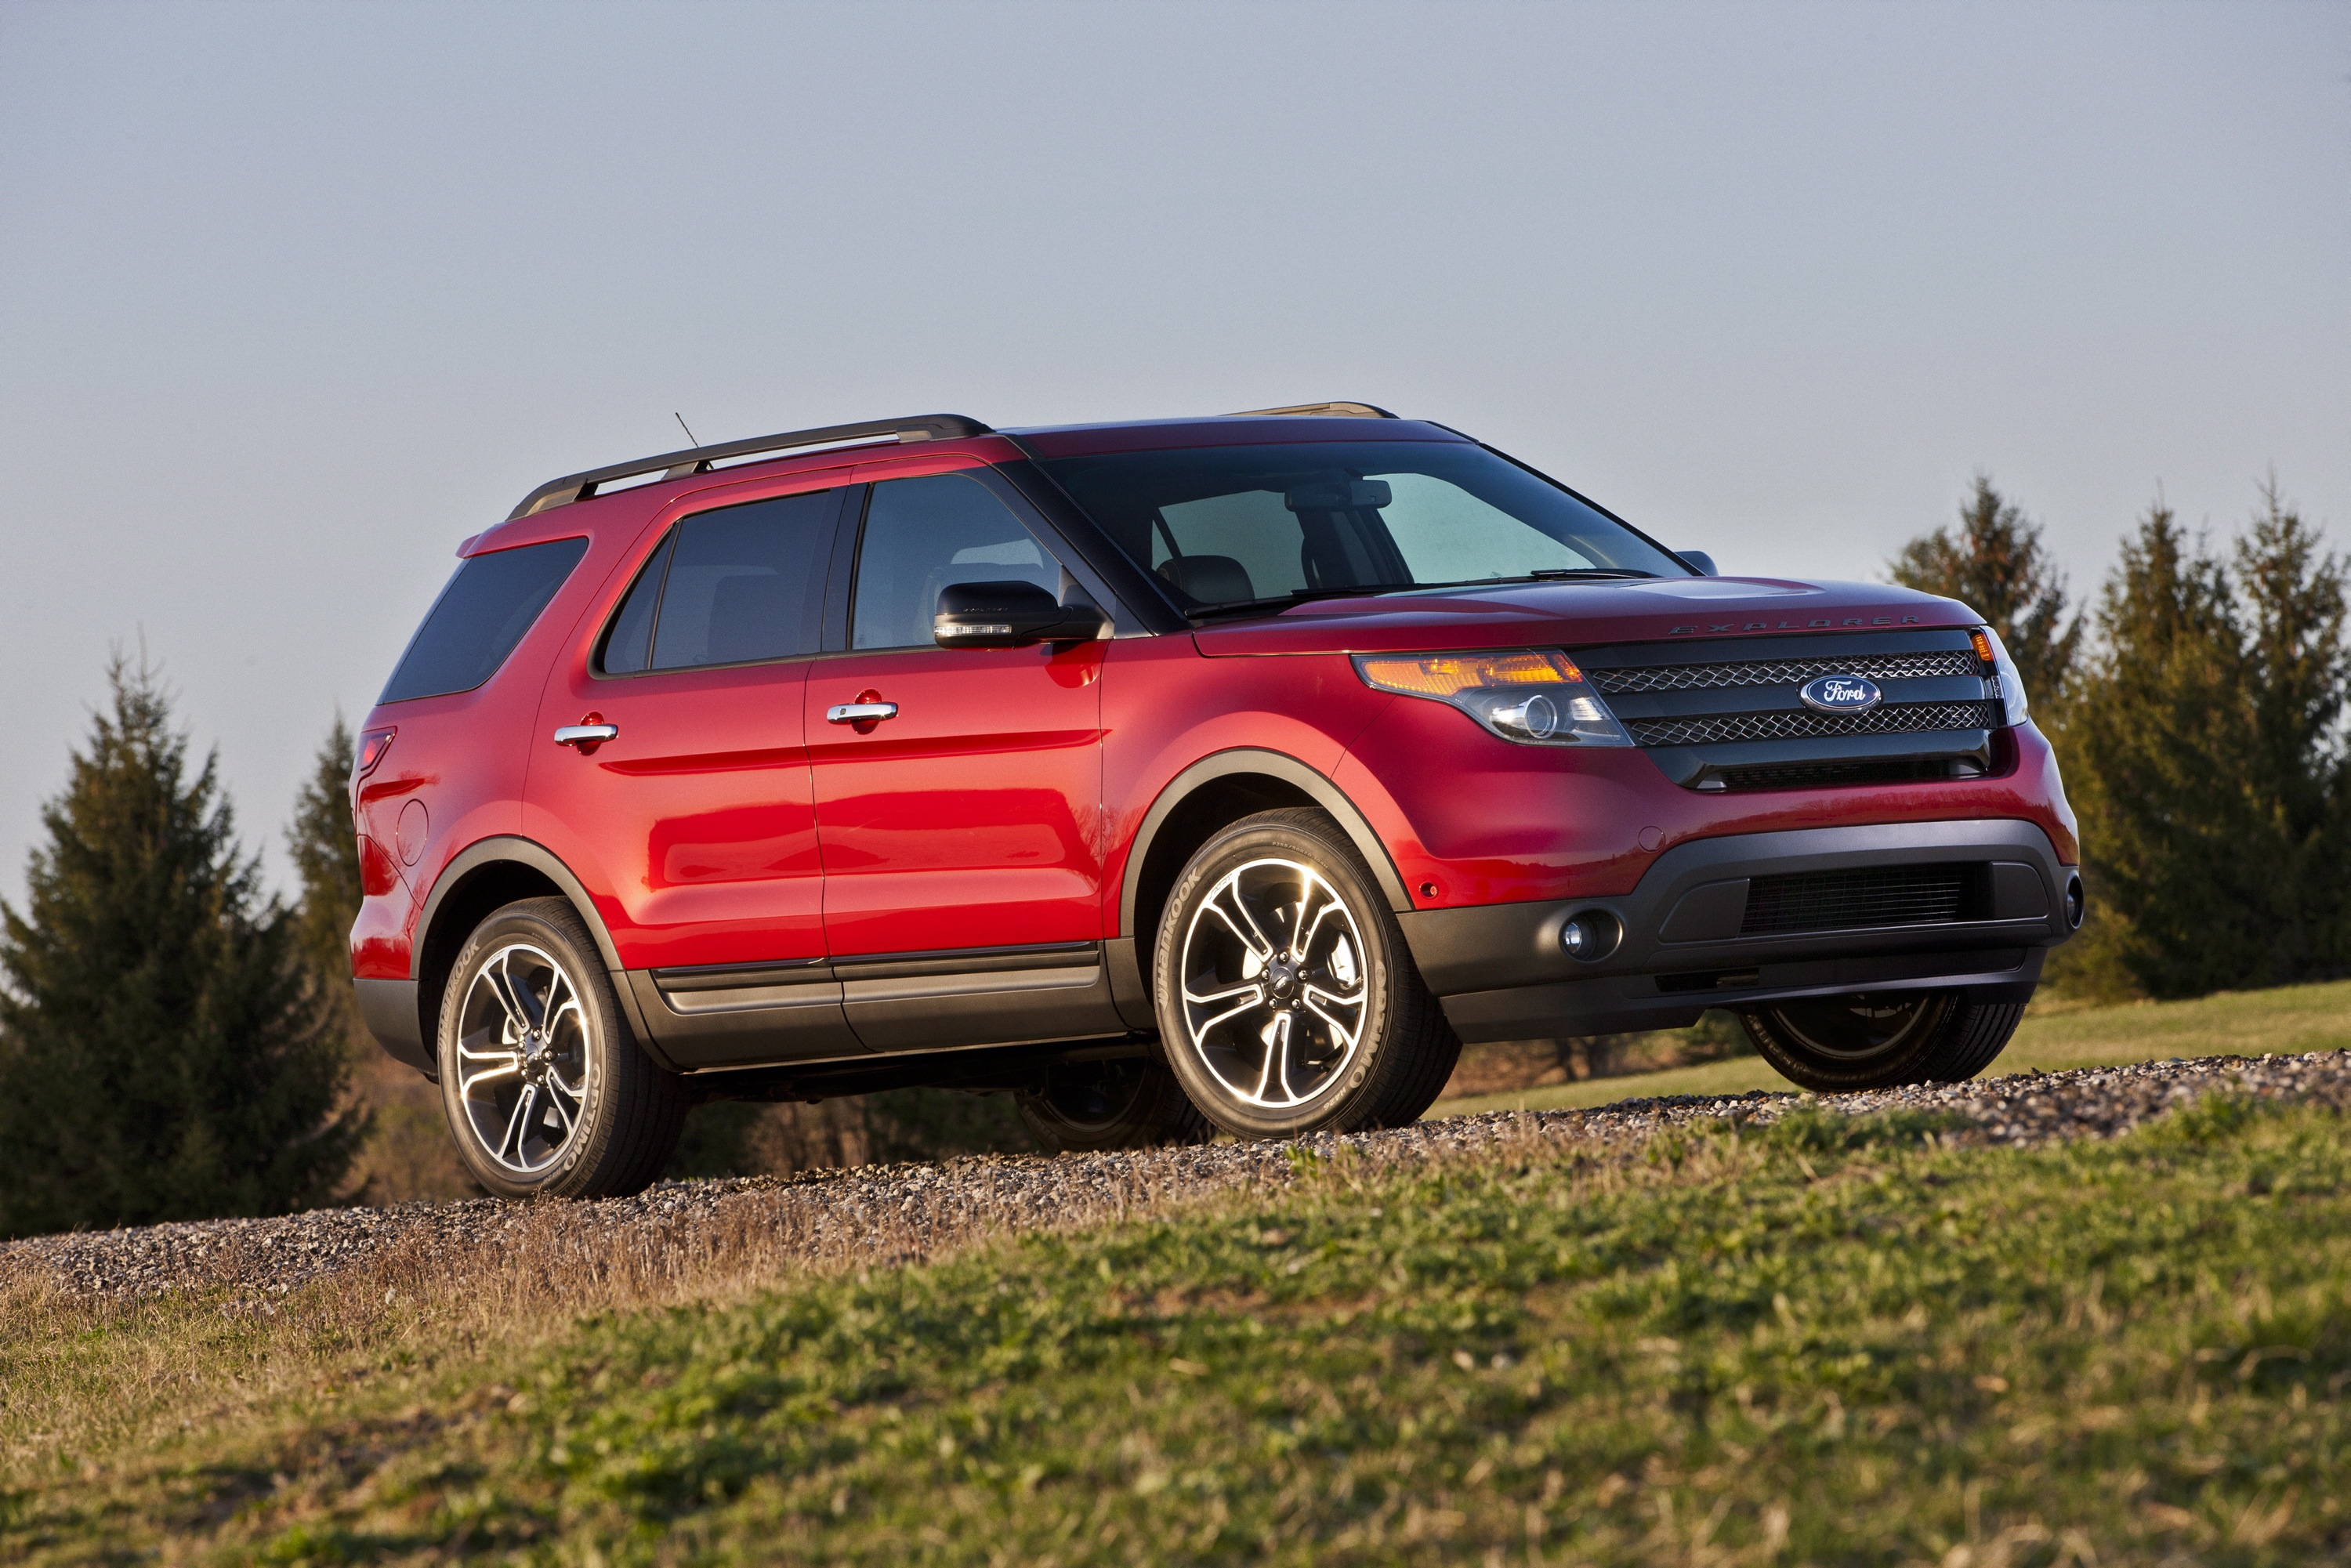Ford Explorer: (348, 399, 2080, 1200)
